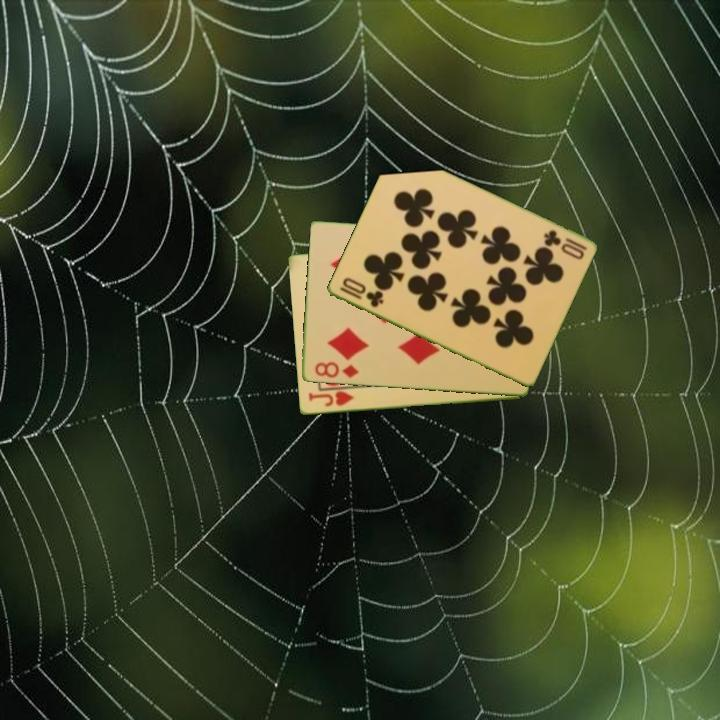10c: (335, 274, 386, 310), (540, 226, 589, 254)
8d: (311, 358, 361, 381)
Jh: (305, 388, 357, 410)
